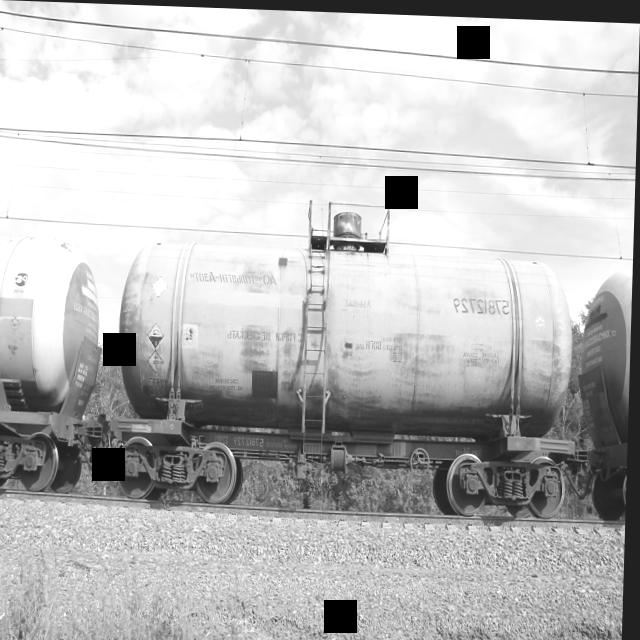tank: (110, 180, 584, 523), (0, 215, 112, 511), (577, 247, 634, 523)
